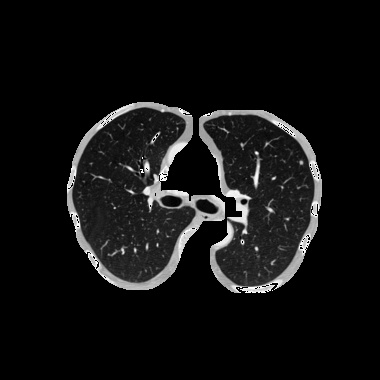PN: (299, 160, 303, 164)
